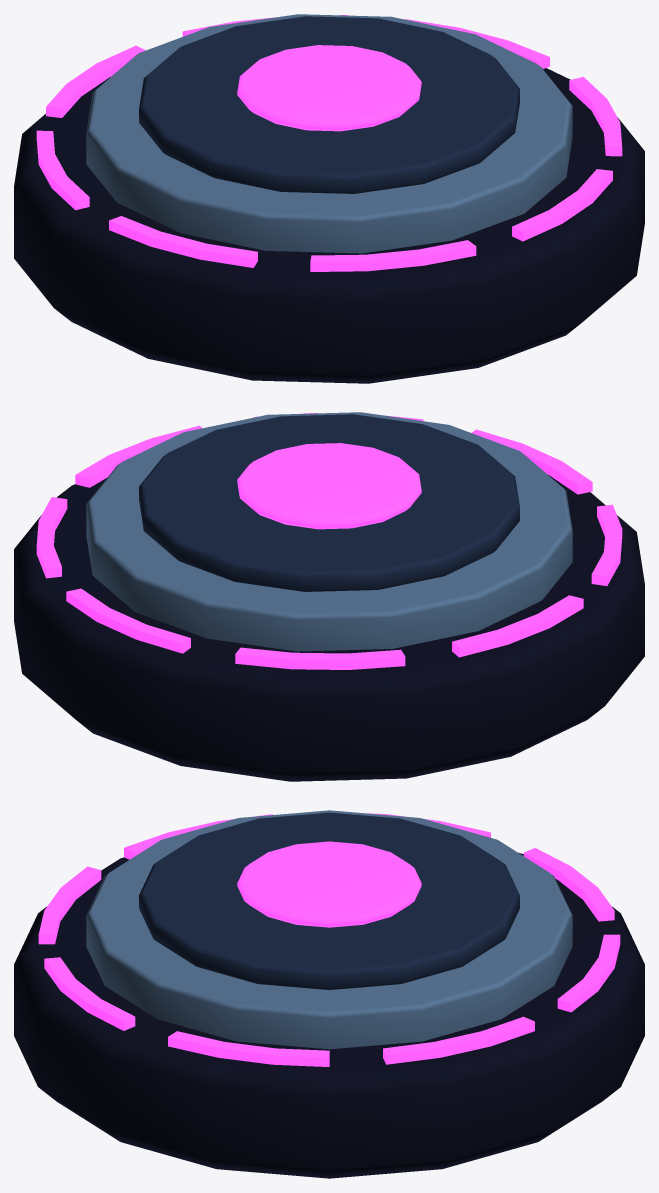
File: NT_Mine_Magenta.fbx
3 views of the same model, one above another, from view 1: azimuth 30°, elevation 25°; view 2: azimuth 150°, elevation 25°; view 3: azimuth 270°, elevation 25° (orthographic).
Visible parts, largest first — view 1: NT_Mine_Magenta__PickupMesh; view 2: NT_Mine_Magenta__PickupMesh; view 3: NT_Mine_Magenta__PickupMesh.
Boxes of the visible parts, bbox=[...] form: NT_Mine_Magenta__PickupMesh: bbox=[14, 14, 644, 383]; NT_Mine_Magenta__PickupMesh: bbox=[14, 412, 644, 781]; NT_Mine_Magenta__PickupMesh: bbox=[14, 810, 644, 1178].
Bounding box in the file's own units: 0.96 × 0.295 × 0.96.
